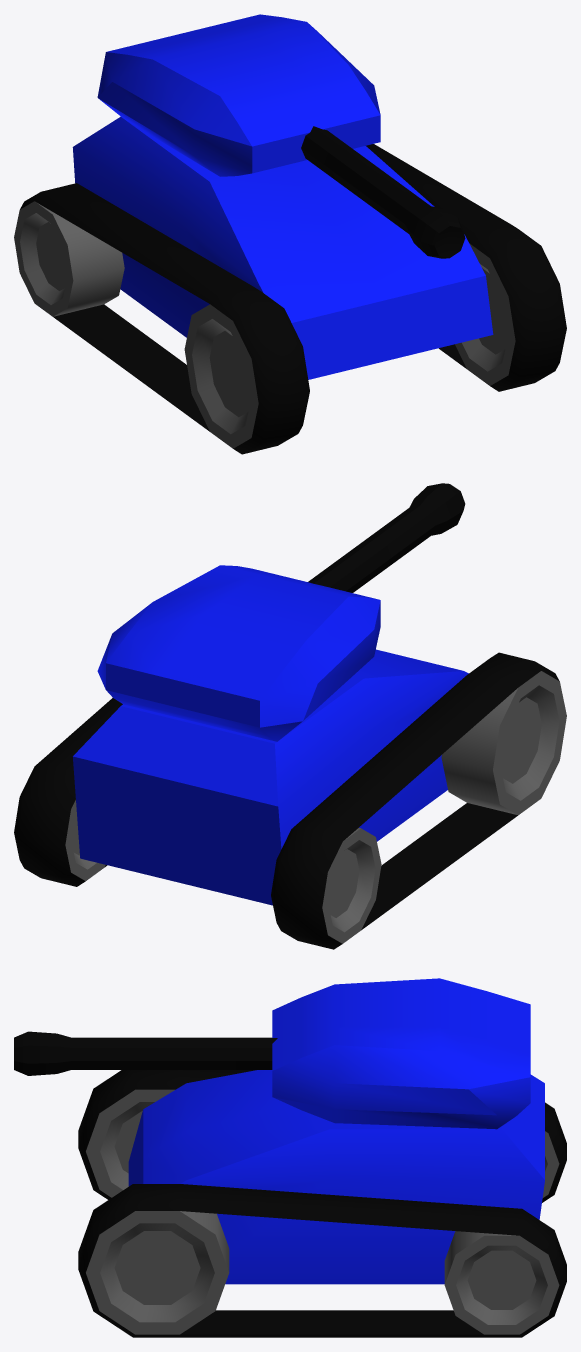
The model's file is BlueTank.fbx.
The picture shows the model from 3 angles, top to bottom: view 1: azimuth 30°, elevation 25°; view 2: azimuth 150°, elevation 25°; view 3: azimuth 270°, elevation 25°; orthographic projection. The views are drawn at different scales.
Parts seen in each view (by area): view 1: Chassis, Chain, Head, Front, Back, Cannon; view 2: Chassis, Head, Chain, Front, Cannon, Back; view 3: Chassis, Head, Chain, Front, Back, Cannon.
Part boxes in pixels (bbox=[...]): Chassis: bbox=[72, 116, 493, 379]; Chain: bbox=[20, 144, 566, 454]; Head: bbox=[97, 14, 380, 176]; Front: bbox=[184, 243, 515, 448]; Back: bbox=[14, 201, 124, 316]; Cannon: bbox=[301, 126, 465, 258]; Chassis: bbox=[72, 649, 468, 905]; Head: bbox=[97, 565, 380, 741]; Chain: bbox=[14, 652, 559, 949]; Front: bbox=[441, 671, 566, 815]; Cannon: bbox=[308, 483, 465, 592]; Back: bbox=[65, 800, 381, 943]; Chassis: bbox=[128, 1070, 544, 1284]; Head: bbox=[272, 978, 530, 1129]; Chain: bbox=[78, 1070, 566, 1337]; Front: bbox=[86, 1089, 229, 1334]; Back: bbox=[444, 1131, 559, 1334]; Cannon: bbox=[14, 1031, 277, 1075].
Bounding box in the file's own units: 240 × 195 × 385.
